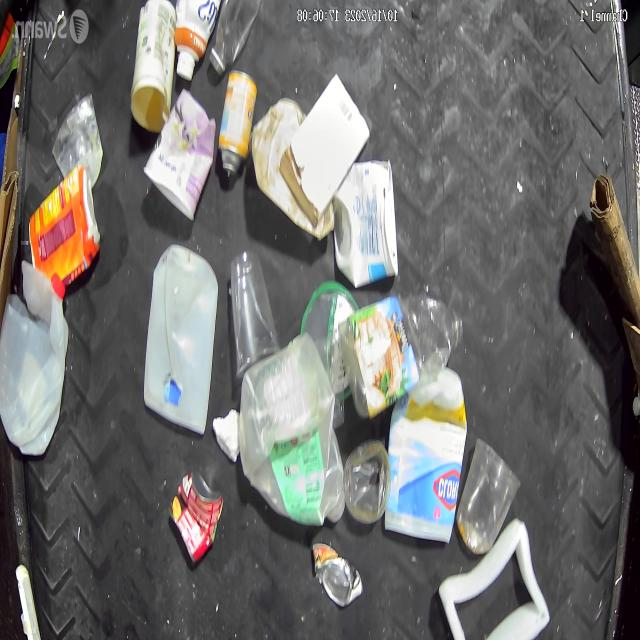can: (171, 464, 226, 556), (218, 64, 260, 180), (308, 544, 357, 608)
milk_jug: (238, 336, 343, 538), (140, 244, 218, 434), (0, 261, 72, 448)
non_white_jug: (389, 365, 469, 529), (32, 158, 95, 290)
plastic_bottle: (351, 287, 462, 407), (207, 0, 264, 75)
